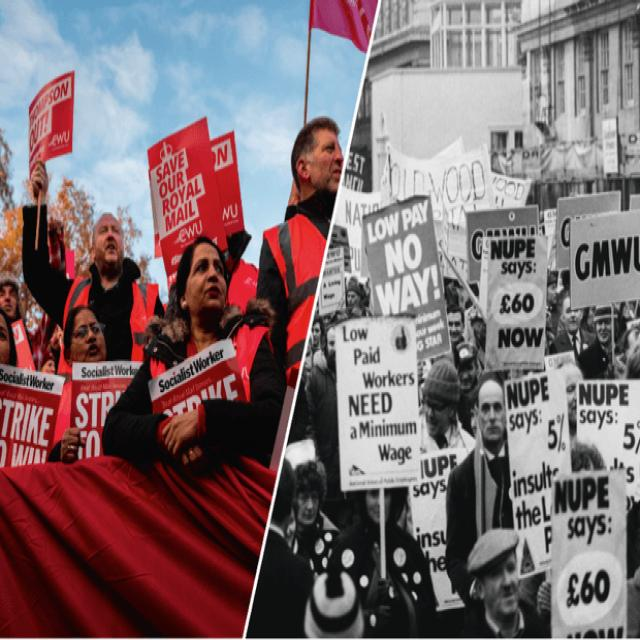Walking: (40, 303, 124, 461)
human: (22, 172, 162, 374), (442, 373, 527, 633), (261, 116, 335, 391), (252, 455, 314, 638), (462, 529, 552, 639), (1, 297, 58, 459), (282, 118, 340, 228), (288, 458, 340, 570), (553, 365, 605, 474), (421, 358, 477, 456), (184, 242, 233, 316), (1, 270, 35, 368), (60, 309, 109, 376), (552, 298, 597, 369), (301, 119, 345, 189), (215, 228, 254, 299), (579, 304, 617, 376), (268, 456, 297, 548), (467, 528, 518, 578), (96, 213, 128, 270), (456, 342, 482, 394), (546, 272, 565, 342), (446, 305, 468, 360), (466, 310, 486, 365), (343, 276, 369, 318), (43, 324, 64, 372), (615, 300, 636, 346), (0, 306, 16, 366), (579, 305, 598, 344), (394, 493, 412, 534), (322, 325, 337, 372), (622, 341, 640, 380), (622, 321, 640, 356), (1, 272, 22, 298), (286, 177, 302, 210), (310, 315, 325, 348), (302, 344, 314, 384), (39, 354, 56, 374), (546, 286, 558, 310), (594, 304, 612, 319), (346, 277, 361, 295)
